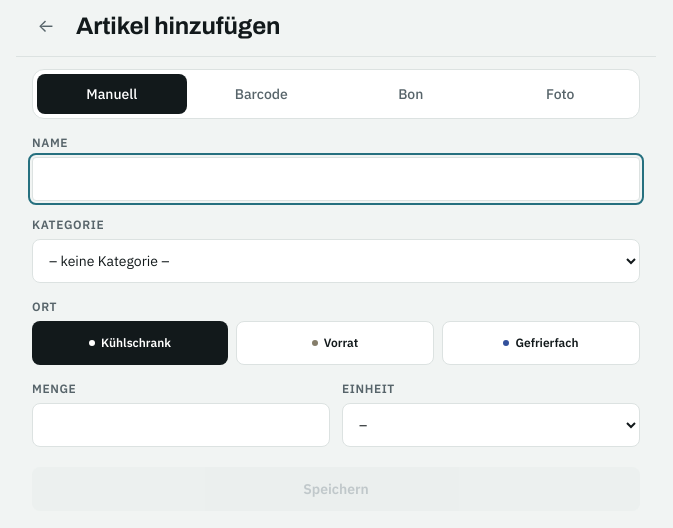
Test: AddItem — auto-classification › does not overwrite a location the user already picked
Click the button "Vorrat" at [335, 343], box [236,321,434,365]
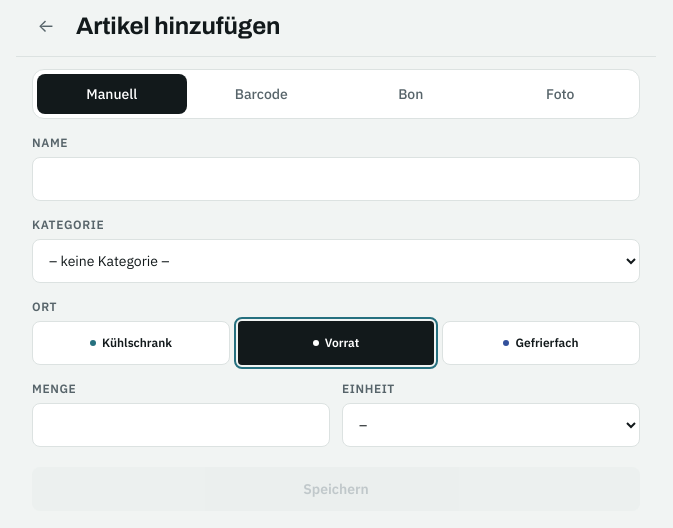
Type "Cola" into the field labelled "Name" at [336, 179], box [32,157,640,201]
Wait 600 ms
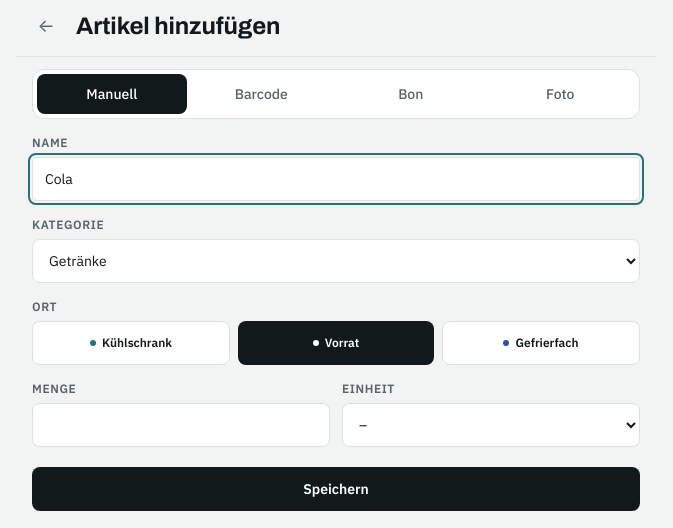
Check: the dropdown labelled "Kategorie" shows "Getränke", box [32,239,640,283]
